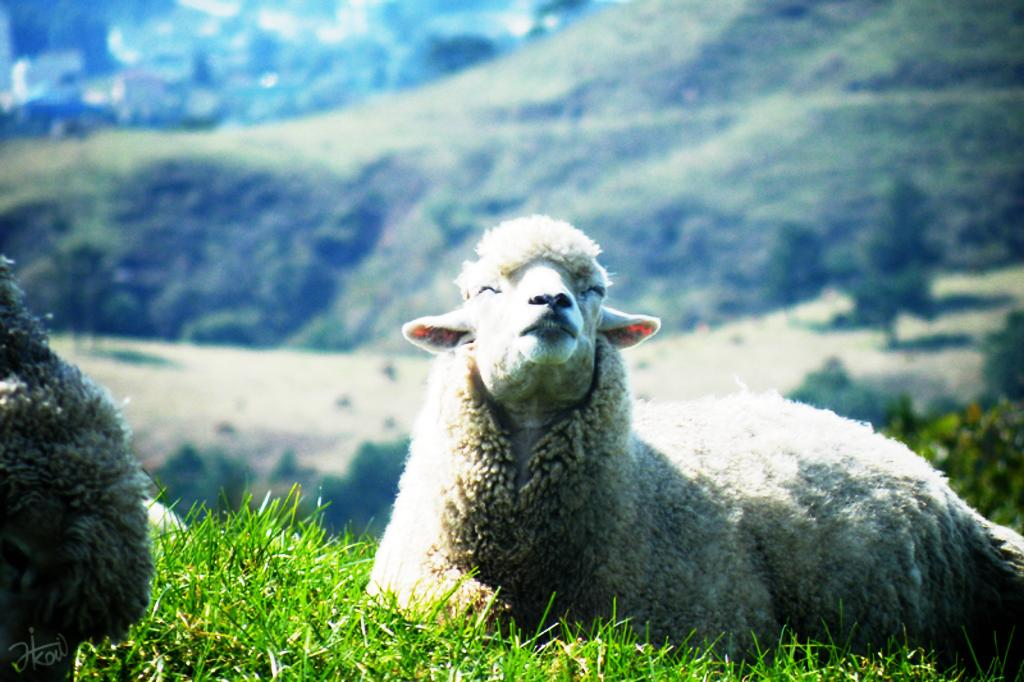Sheep: (368, 217, 976, 676), (0, 251, 146, 681)
